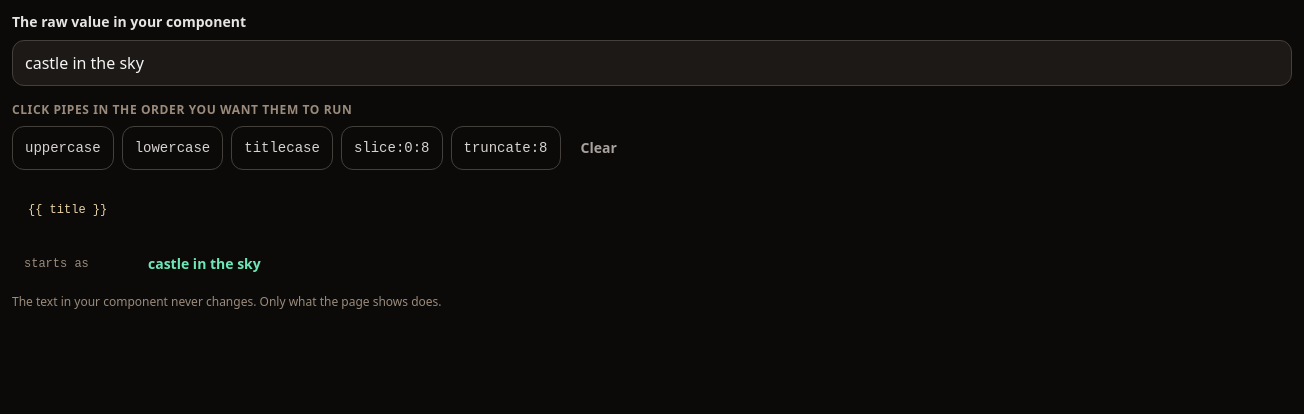
Test: PipeChainDemoComponent › adds a stage for each pipe and numbers them in click order
The width and height of the screenshot is (1304, 414).
Click the button "titlecase".
click(282, 148)  # box [231,126,333,170]
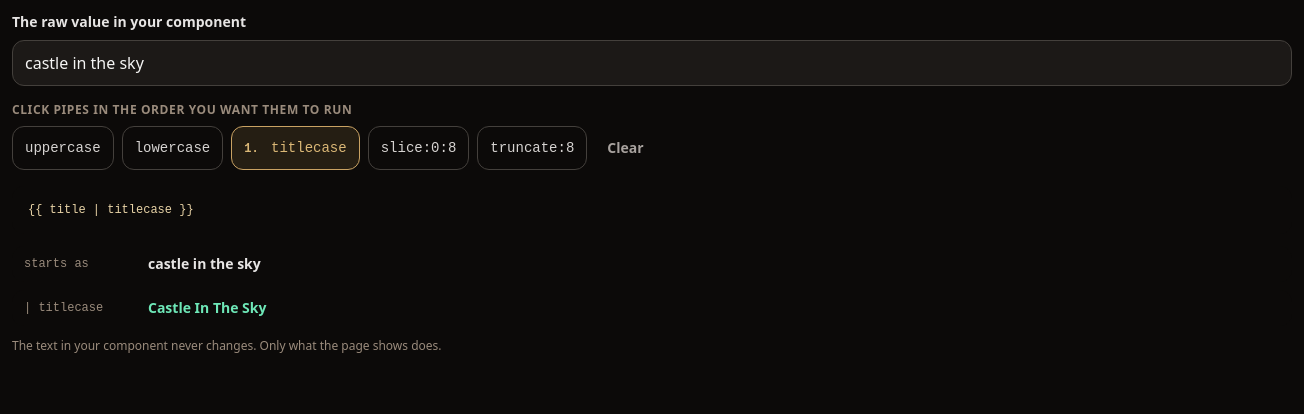
Click the button "slice:0:8".
click(418, 148)  # box [368,126,469,170]
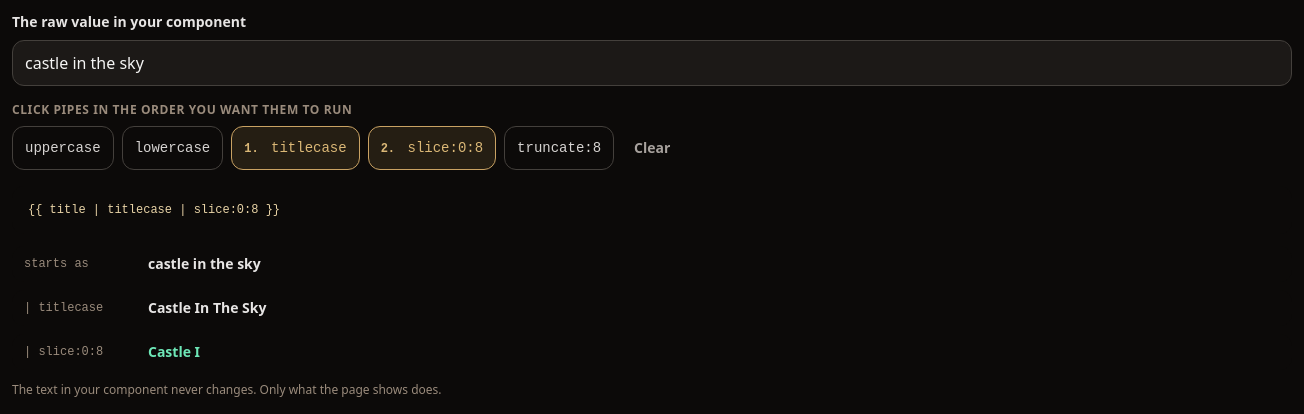
Expected: the text "Castle I" is shown, [148,342,200,362]
